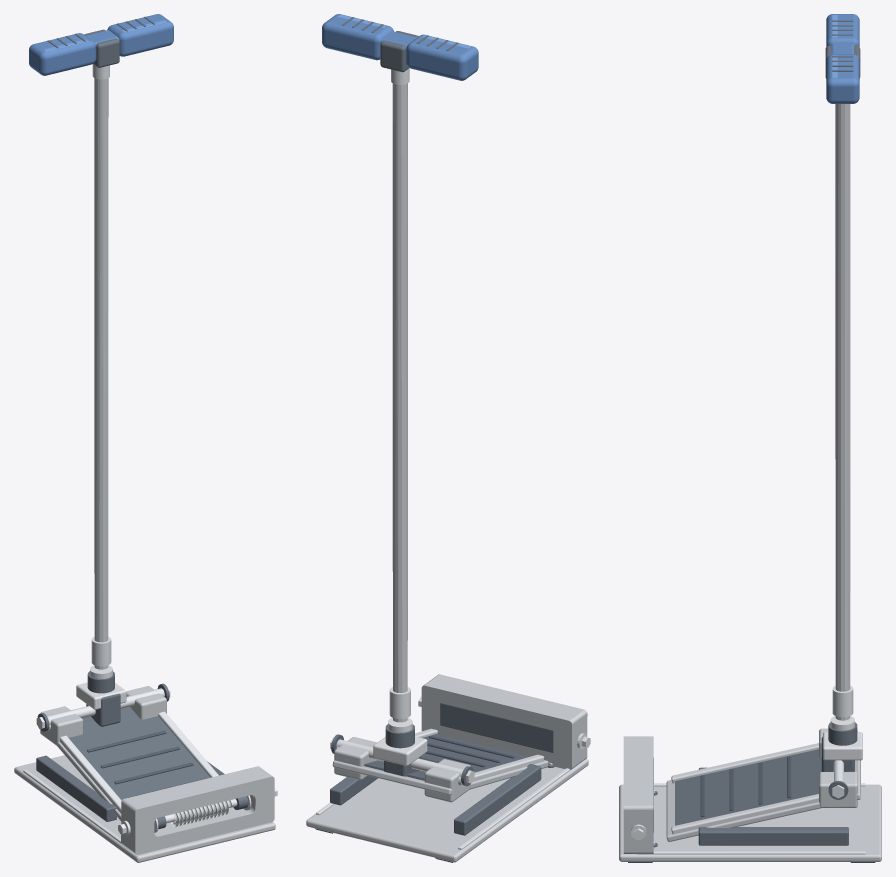
File: piano-pedal.glb
3 views of the same model, side by side, from view 1: azimuth 30°, elevation 25°; view 2: azimuth 150°, elevation 25°; view 3: azimuth 270°, elevation 25° (orthographic). The views are drawn at different scales.
Parts seen in each view (by area): view 1: 047-vertical_actuating_shaft, 022-front_steel_spring_carriage, 012-inclined_pedal_traction_pad, 005-machined_base_plate, 052-ergonomic_grip_half, 058-ergonomic_grip_half, 020-lower_mechanism_side_support, 034-rear_hinge_pillow_block, 014-foot_plate_edge, 036-rear_hinge_pillow_block, 029-visible_compression_spring, 038-rear_rod_fork_center (+6 smaller); view 2: 005-machined_base_plate, 047-vertical_actuating_shaft, 022-front_steel_spring_carriage, 023-spring_window_backing, 052-ergonomic_grip_half, 058-ergonomic_grip_half, 020-lower_mechanism_side_support, 012-inclined_pedal_traction_pad, 013-inclined_anodized_pedal, 034-rear_hinge_pillow_block, 036-rear_hinge_pillow_block, 044-rear_mount_bracket (+6 smaller); view 3: 047-vertical_actuating_shaft, 005-machined_base_plate, 012-inclined_pedal_traction_pad, 022-front_steel_spring_carriage, 021-lower_mechanism_side_support, 013-inclined_anodized_pedal, 058-ergonomic_grip_half, 015-foot_plate_edge, 014-foot_plate_edge, 036-rear_hinge_pillow_block, 052-ergonomic_grip_half, 007-base_edge_reinforcement (+2 smaller).
Boxes of the visible parts, x1,y1,x2,y2 form: 047-vertical_actuating_shaft: [94, 78, 108, 669]; 022-front_steel_spring_carriage: [121, 766, 274, 854]; 012-inclined_pedal_traction_pad: [69, 706, 210, 800]; 005-machined_base_plate: [14, 755, 275, 862]; 052-ergonomic_grip_half: [29, 33, 95, 75]; 058-ergonomic_grip_half: [107, 14, 173, 56]; 020-lower_mechanism_side_support: [36, 755, 116, 821]; 034-rear_hinge_pillow_block: [40, 706, 82, 745]; 014-foot_plate_edge: [60, 735, 121, 813]; 036-rear_hinge_pillow_block: [126, 686, 166, 719]; 029-visible_compression_spring: [170, 800, 232, 827]; 038-rear_rod_fork_center: [86, 693, 120, 726]; 005-machined_base_plate: [306, 758, 588, 862]; 047-vertical_actuating_shaft: [392, 83, 407, 722]; 022-front_steel_spring_carriage: [421, 674, 587, 769]; 023-spring_window_backing: [440, 703, 553, 752]; 052-ergonomic_grip_half: [406, 34, 478, 80]; 058-ergonomic_grip_half: [322, 14, 393, 60]; 020-lower_mechanism_side_support: [454, 764, 541, 835]; 012-inclined_pedal_traction_pad: [364, 734, 529, 780]; 013-inclined_anodized_pedal: [332, 760, 548, 795]; 034-rear_hinge_pillow_block: [424, 759, 470, 802]; 036-rear_hinge_pillow_block: [334, 737, 377, 780]; 044-rear_mount_bracket: [373, 736, 427, 765]; 047-vertical_actuating_shaft: [835, 104, 850, 720]; 005-machined_base_plate: [619, 784, 881, 861]; 012-inclined_pedal_traction_pad: [675, 749, 852, 825]; 022-front_steel_spring_carriage: [623, 736, 653, 853]; 021-lower_mechanism_side_support: [698, 827, 848, 845]; 013-inclined_anodized_pedal: [666, 760, 860, 841]; 058-ergonomic_grip_half: [826, 54, 859, 103]; 015-foot_plate_edge: [671, 794, 818, 834]; 014-foot_plate_edge: [671, 743, 818, 783]; 036-rear_hinge_pillow_block: [819, 772, 857, 807]; 052-ergonomic_grip_half: [826, 14, 859, 46]; 007-base_edge_reinforcement: [637, 851, 865, 854].
Bounding box in the file's own units: 0.1702 × 0.7776 × 0.236.
